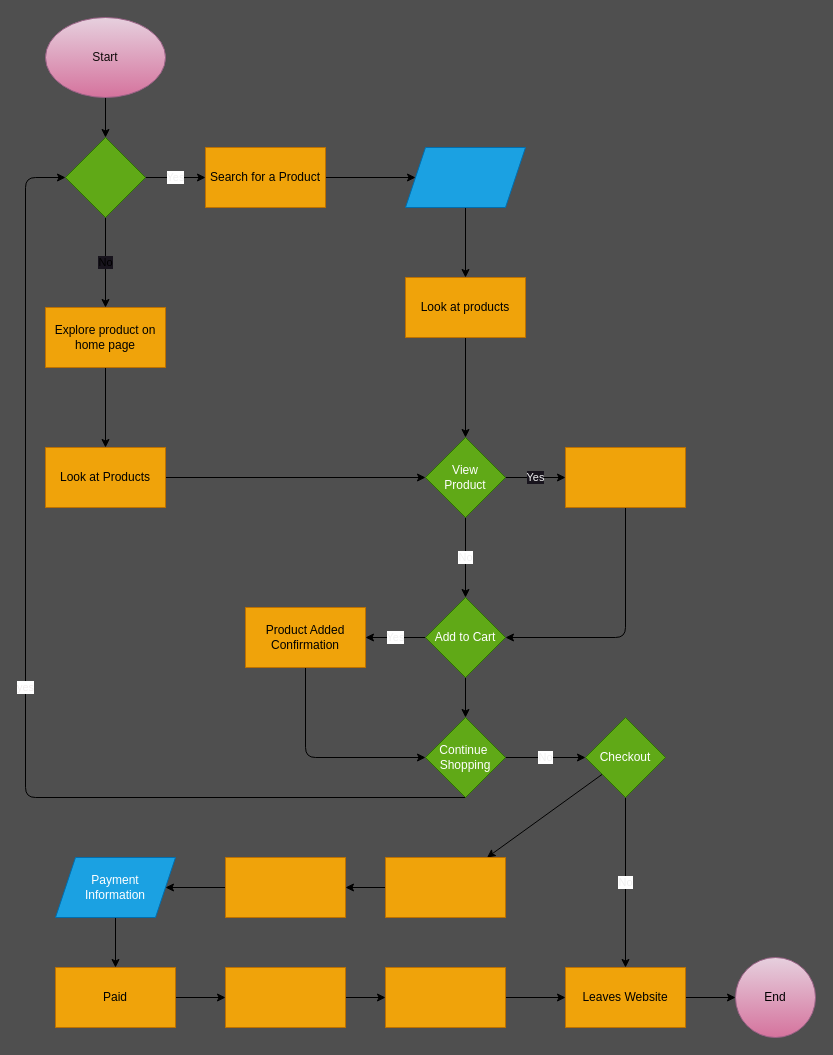
Image size: 833x1055. Some labels were removed from this diagram. The shapes that lost their labels are listed below. From the top down, each one's box as (x1, y1, x2, y2) in pixels, then its label:
(64, 136, 146, 218): search Product
(404, 146, 526, 208): Read product name
(564, 446, 686, 508): Display Product's Page
(224, 856, 346, 918): Payment Screen
(384, 856, 506, 918): View Cart
(224, 966, 346, 1028): Payment Confirmation Page
(384, 966, 506, 1028): Confirmation email sent
